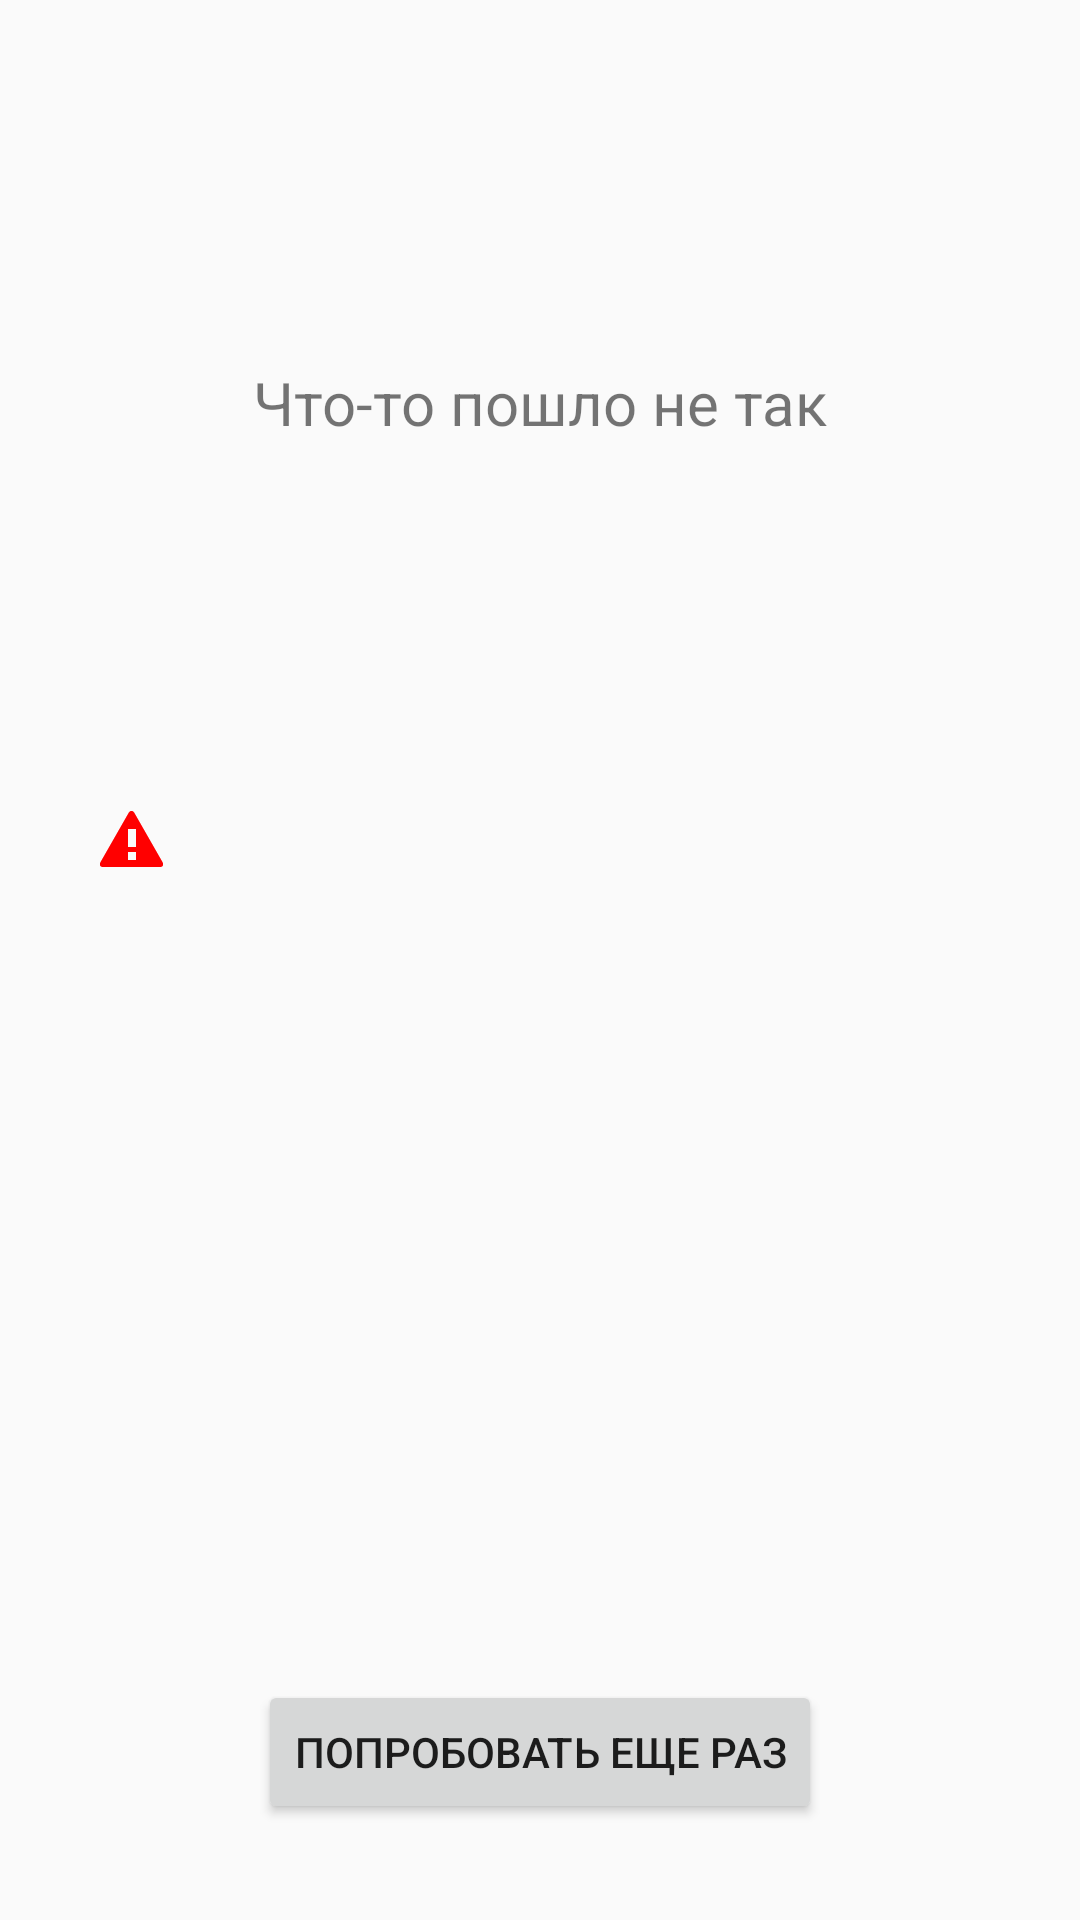

Locate icon controls on the screen. Image size 1080 × 1920, boxes as (x1, y1, x2, y2).
warning: (100, 811, 163, 867)
